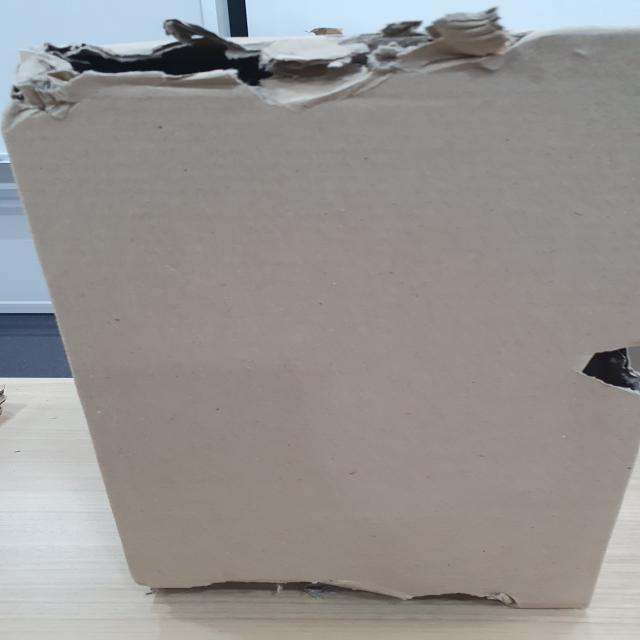hole: (32, 26, 507, 94), (157, 574, 531, 614), (565, 333, 636, 397)
